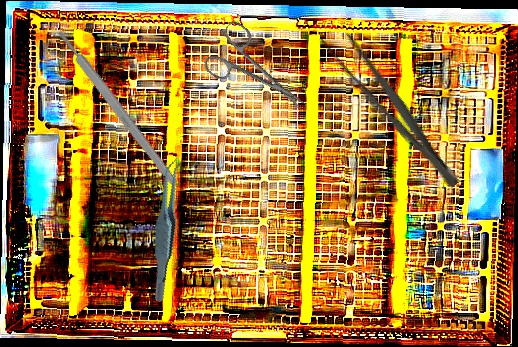Dressing Forceps: (315, 20, 470, 196)
Iris Scissors: (197, 18, 321, 132)
Scalpel Handle: (55, 28, 179, 187)
Tissue Forceps: (124, 156, 209, 303)
